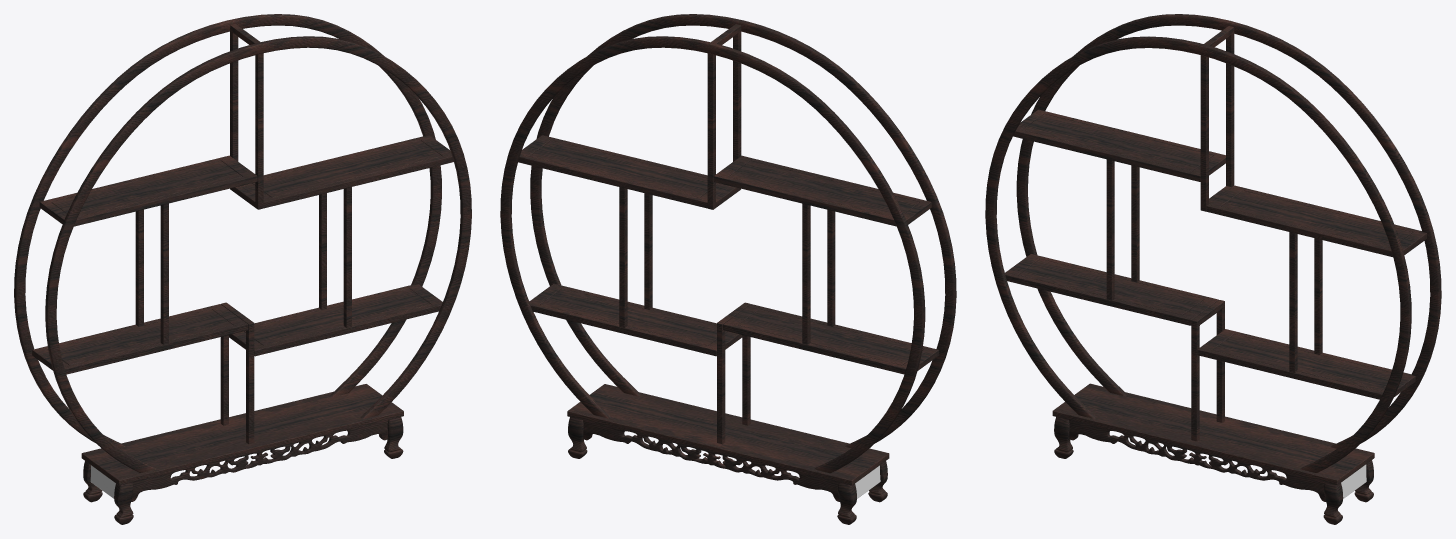
Rendered from Shelf_Round.glb.
3 renders of one model, left to right at view 1: azimuth 30°, elevation 25°; view 2: azimuth 150°, elevation 25°; view 3: azimuth 330°, elevation 25°, orthographic.
Visible parts, largest first — view 1: Shelf_Round; view 2: Shelf_Round; view 3: Shelf_Round.
Boxes of the visible parts, left/top/right/bottom form: Shelf_Round: left=14, top=14, right=471, bottom=524; Shelf_Round: left=500, top=14, right=956, bottom=524; Shelf_Round: left=985, top=14, right=1441, bottom=524.
Size of the model in its own units: 1.41 by 1.42 by 0.2171.
2 materials, 1 textured.
